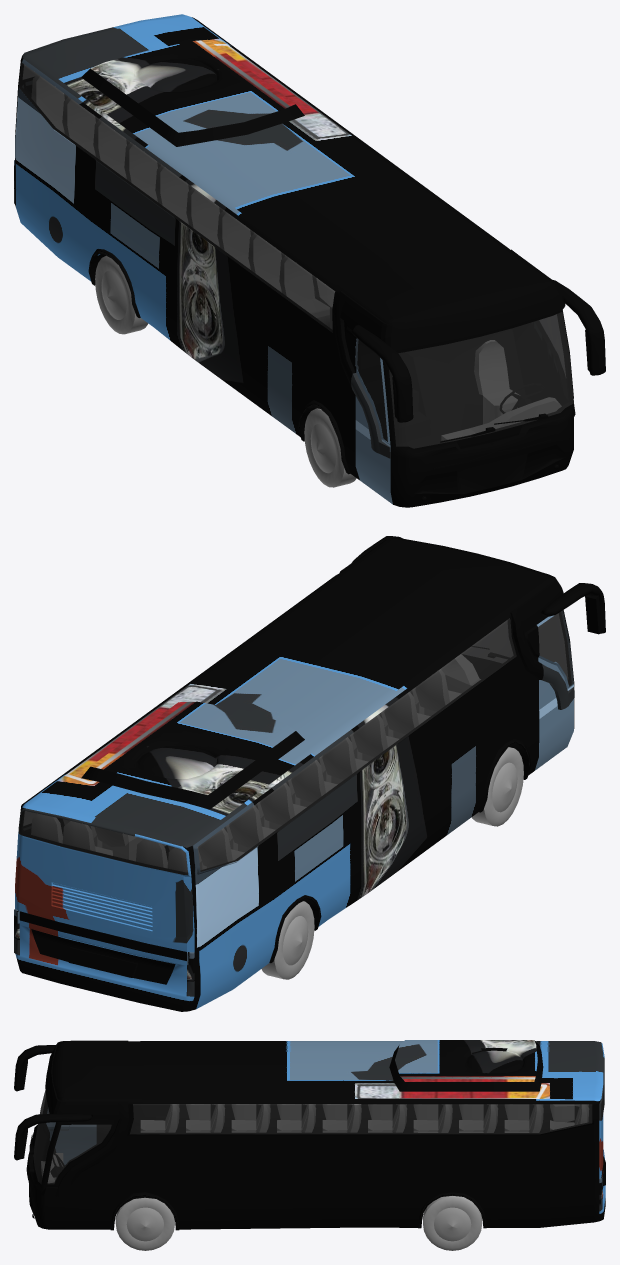
Rendered from Bus_08.fbx.
3 renders of one model, top to bottom at view 1: azimuth 30°, elevation 25°; view 2: azimuth 150°, elevation 25°; view 3: azimuth 270°, elevation 25°, orthographic. The views are drawn at different scales.
Visible parts, largest first — view 1: Bus_8body, Bus_8_Glass, Bus_8_Door, FR, RR, Bus_8_DoorGlass; view 2: Bus_8body, Bus_8_Glass, Bus_8_Door, RR, FR, Bus_8_DoorGlass; view 3: Bus_8body, Bus_8_Glass, RL, FL, Bus_8_Door.
Boxes of the visible parts, x1,y1,x2,y2 form: Bus_8body: [14, 14, 605, 507]; Bus_8_Glass: [18, 63, 573, 448]; Bus_8_Door: [351, 338, 392, 504]; FR: [304, 408, 356, 487]; RR: [95, 255, 148, 334]; Bus_8_DoorGlass: [355, 338, 387, 441]; Bus_8body: [14, 536, 605, 1011]; Bus_8_Glass: [18, 614, 567, 875]; Bus_8_Door: [534, 611, 574, 770]; RR: [261, 901, 314, 979]; FR: [471, 747, 523, 826]; Bus_8_DoorGlass: [538, 610, 573, 686]; Bus_8body: [14, 1040, 605, 1230]; Bus_8_Glass: [33, 1084, 604, 1184]; RL: [423, 1196, 482, 1250]; FL: [115, 1197, 174, 1250]; Bus_8_Door: [46, 1109, 96, 1164].
Size of the model in its own units: 256 by 255 by 857.
